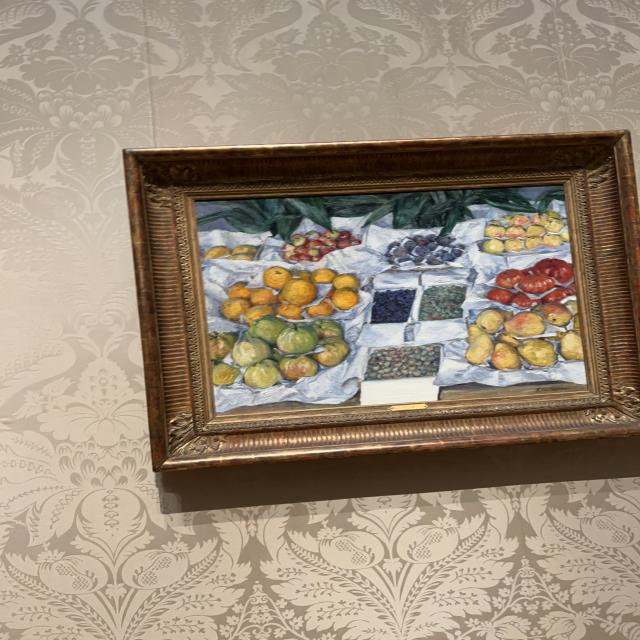fruits: (197, 190, 585, 413)
